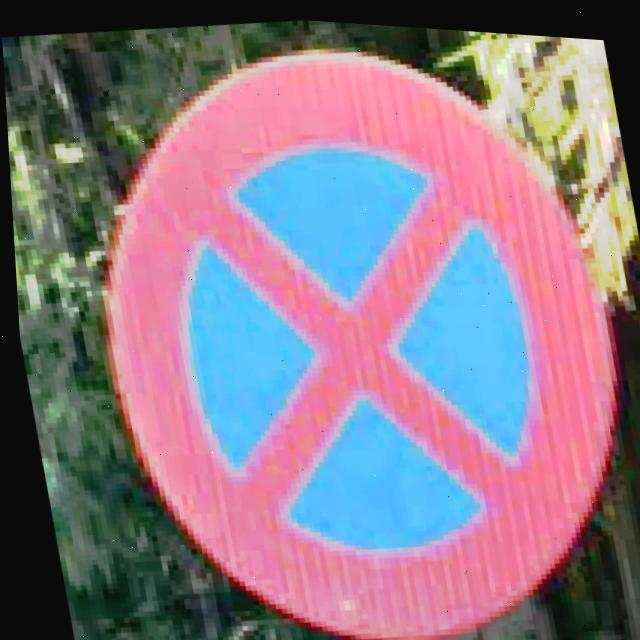nostop: (45, 2, 640, 640)
